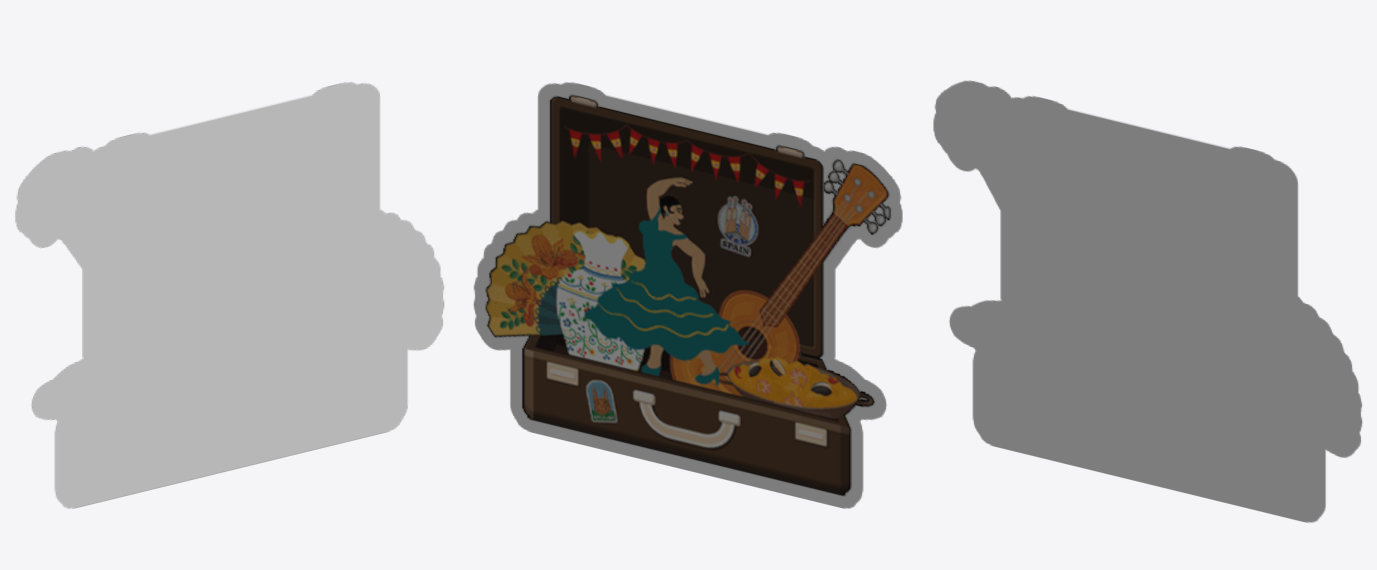
Rendered from mdl_bonus_sticker_spain.gltf.
The picture shows the model from 3 angles, left to right: view 1: azimuth 30°, elevation 25°; view 2: azimuth 150°, elevation 25°; view 3: azimuth 330°, elevation 25°; orthographic projection.
Parts seen in each view (by area): view 1: Sticker.Spain; view 2: Sticker.Spain; view 3: Sticker.Spain.
Boxes of the visible parts, x1,y1,x2,y2 form: Sticker.Spain: (15,82,444,508); Sticker.Spain: (473,82,902,508); Sticker.Spain: (933,80,1362,522).
Bounding box in the file's own units: 0.1 × 0.1 × 8.13e-07.
2 materials, 2 textured.
